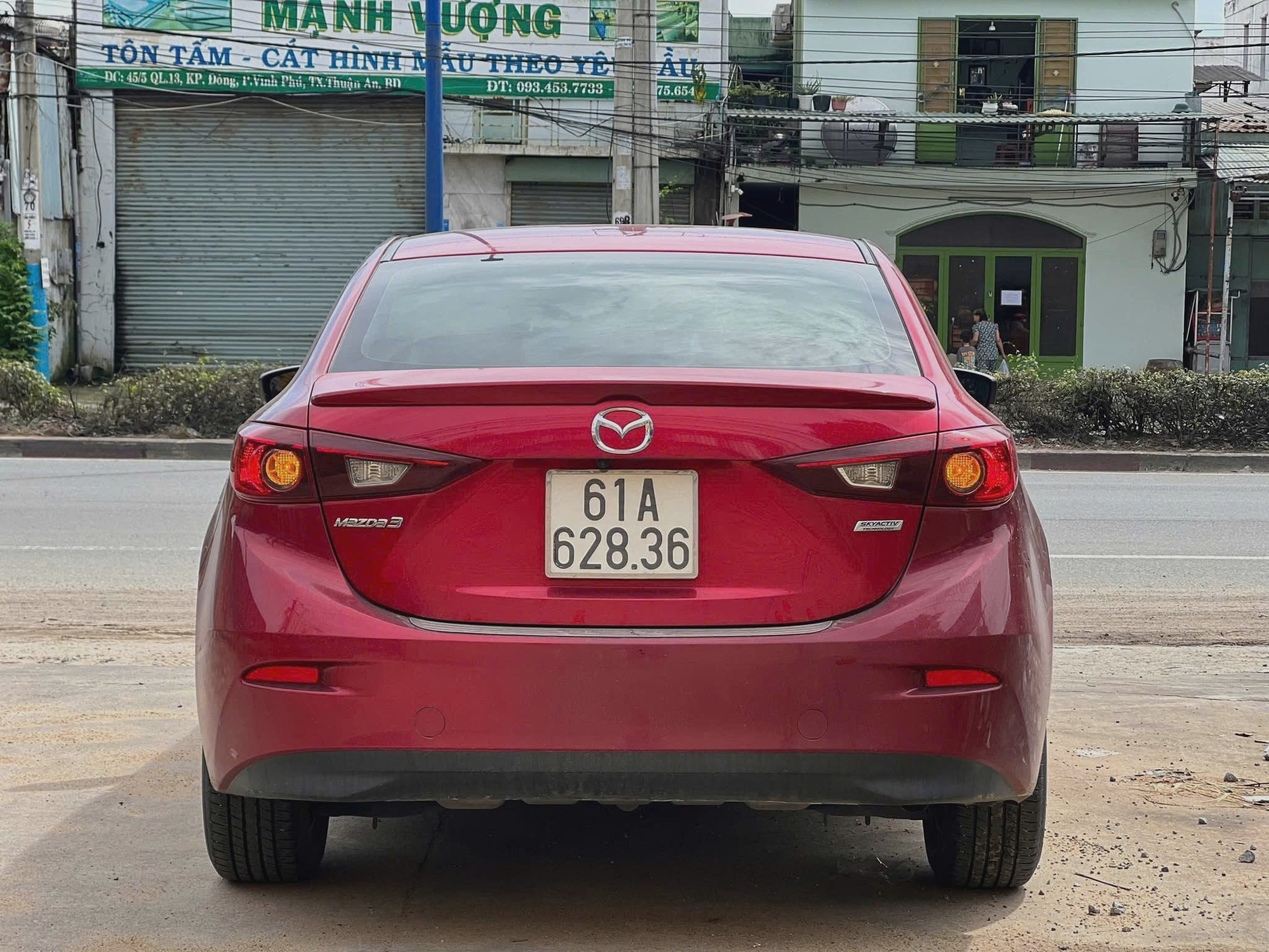Bien-so: (545, 469, 702, 588)
